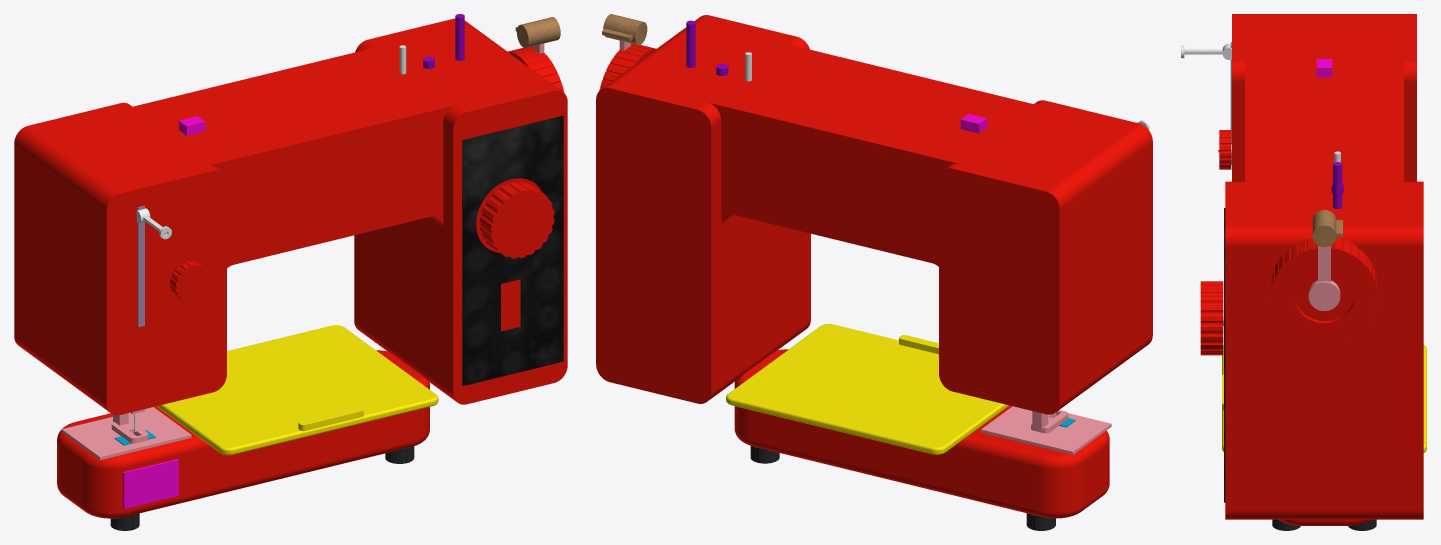
The model's file is sewing_machine__0001.glb.
3 views of the same model, side by side, from view 1: azimuth 30°, elevation 25°; view 2: azimuth 150°, elevation 25°; view 3: azimuth 270°, elevation 25° (orthographic).
Parts seen in each view (by area): view 1: chassis::body_shell, accessory_tray::tray_plate, chassis::front_art_panel, chassis::bed_shell, stitch_dial::stitch_dial_cap, chassis::needle_plate, chassis::bobbin_cover, tension_dial::tension_dial_cap, crank_grip::grip_barrel, handwheel::handwheel_cap, chassis::takeup_slot; view 2: chassis::body_shell, accessory_tray::tray_plate, chassis::bed_shell, chassis::needle_plate, handwheel::handwheel_cap, crank_grip::grip_barrel; view 3: chassis::body_shell, handwheel::handwheel_cap, stitch_dial::stitch_dial_cap, crank_arm::crank_hub, crank_grip::grip_barrel, accessory_tray::tray_plate, chassis::front_art_panel, chassis::bed_shell, tension_dial::tension_dial_cap, crank_arm::crank_bar, chassis::spool_pin, take_up_lever::takeup_lever_arm (+1 smaller).
Boxes of the visible parts, x1=… form: chassis::body_shell: x1=14, y1=18, x2=567, y2=415; accessory_tray::tray_plate: x1=156, y1=325, x2=438, y2=455; chassis::front_art_panel: x1=462, y1=115, x2=563, y2=385; chassis::bed_shell: x1=57, y1=350, x2=429, y2=518; stitch_dial::stitch_dial_cap: x1=479, y1=181, x2=554, y2=258; chassis::needle_plate: x1=61, y1=407, x2=191, y2=459; chassis::bobbin_cover: x1=123, y1=459, x2=178, y2=508; tension_dial::tension_dial_cap: x1=170, y1=261, x2=209, y2=301; crank_grip::grip_barrel: x1=516, y1=17, x2=560, y2=47; handwheel::handwheel_cap: x1=508, y1=46, x2=564, y2=93; chassis::takeup_slot: x1=137, y1=205, x2=144, y2=327; chassis::body_shell: x1=596, y1=15, x2=1152, y2=414; accessory_tray::tray_plate: x1=726, y1=324, x2=1009, y2=454; chassis::bed_shell: x1=734, y1=349, x2=1109, y2=518; chassis::needle_plate: x1=981, y1=406, x2=1111, y2=454; handwheel::handwheel_cap: x1=599, y1=43, x2=656, y2=90; crank_grip::grip_barrel: x1=603, y1=14, x2=647, y2=45; chassis::body_shell: x1=1225, y1=14, x2=1423, y2=519; handwheel::handwheel_cap: x1=1271, y1=238, x2=1377, y2=343; stitch_dial::stitch_dial_cap: x1=1200, y1=281, x2=1223, y2=355; crank_arm::crank_hub: x1=1308, y1=280, x2=1340, y2=310; crank_grip::grip_barrel: x1=1312, y1=210, x2=1336, y2=247; accessory_tray::tray_plate: x1=1222, y1=345, x2=1426, y2=452; chassis::front_art_panel: x1=1224, y1=208, x2=1225, y2=502; chassis::bed_shell: x1=1279, y1=519, x2=1369, y2=525; tension_dial::tension_dial_cap: x1=1218, y1=130, x2=1231, y2=169; crank_arm::crank_bar: x1=1318, y1=245, x2=1330, y2=282; chassis::spool_pin: x1=1333, y1=162, x2=1342, y2=208; take_up_lever::takeup_lever_arm: x1=1181, y1=43, x2=1231, y2=59.
Size of the model in its own units: 0.432 by 0.336 by 0.186.
Materials: 11 (5 with a texture image).
